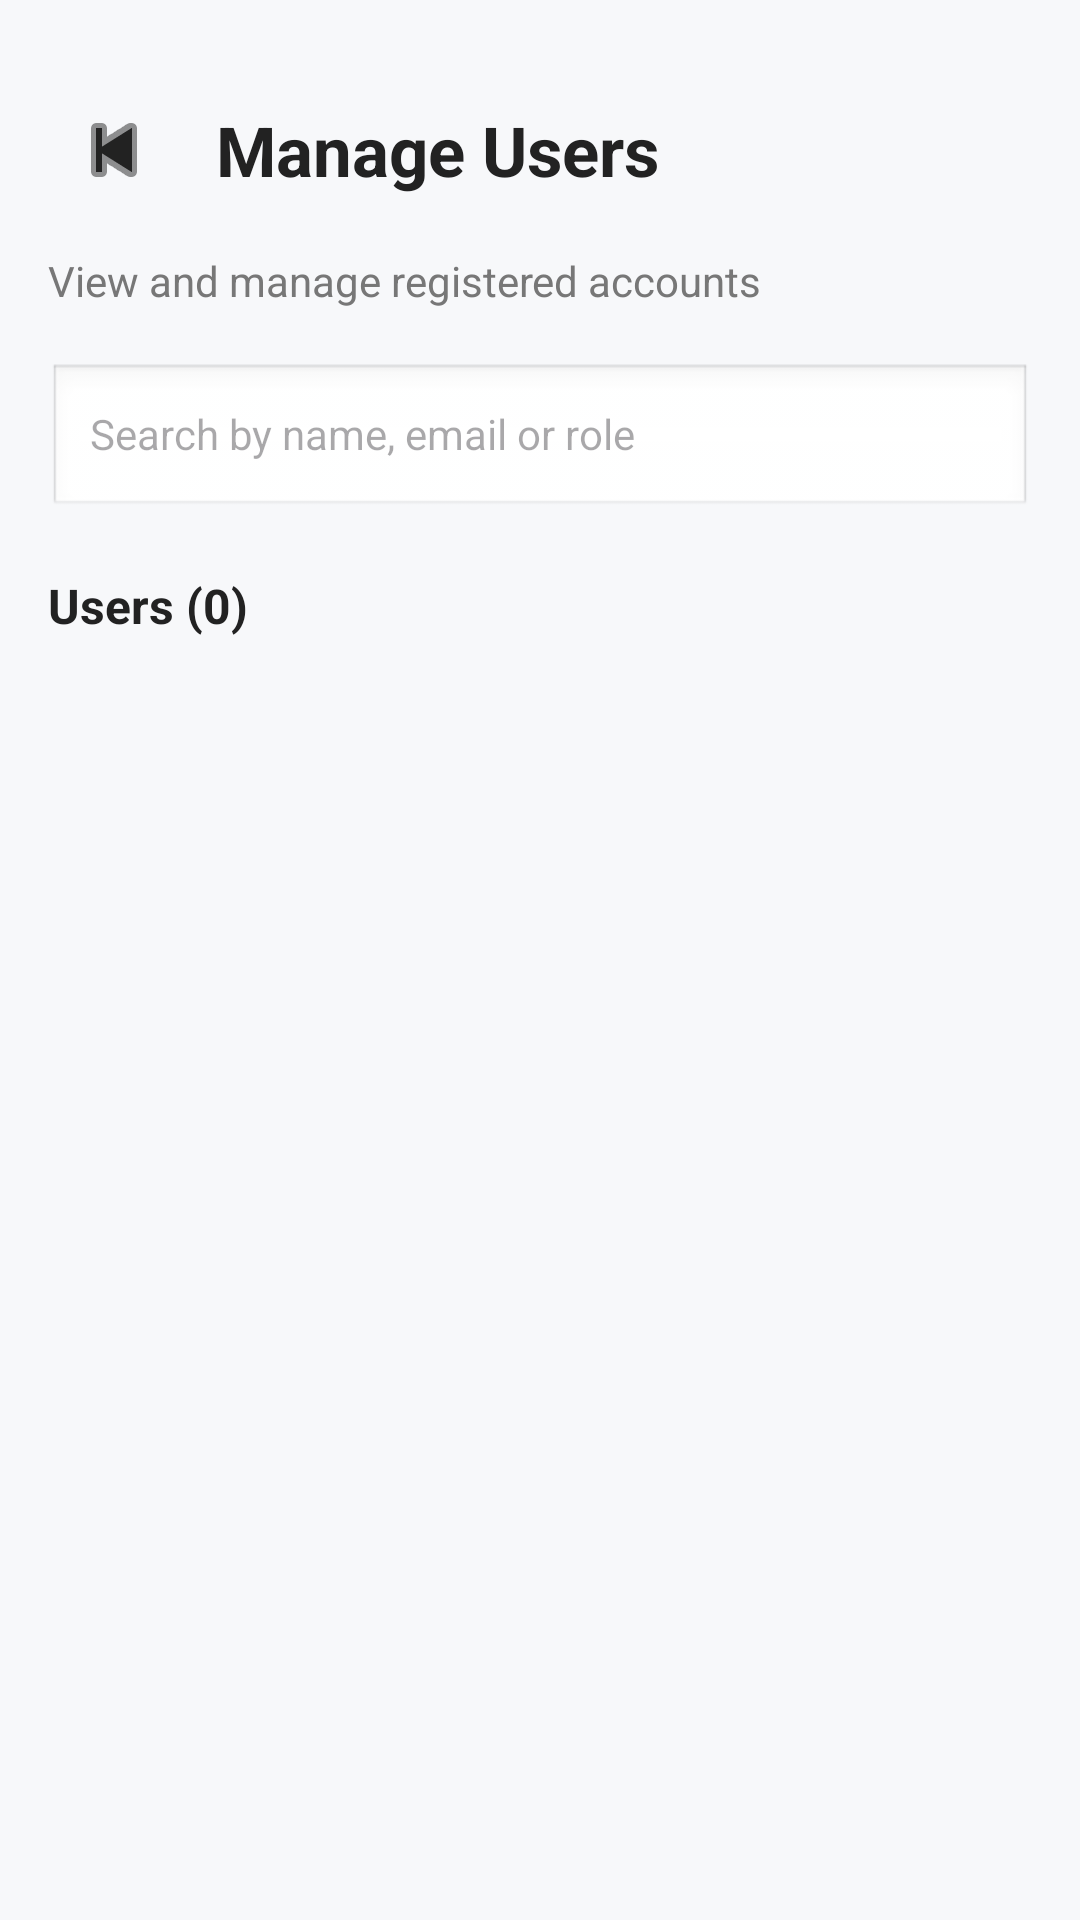

Named icons in this screenshot (1080px x 1920px) and their centers, (x=x, y=y):
Back: (x=114, y=150)
